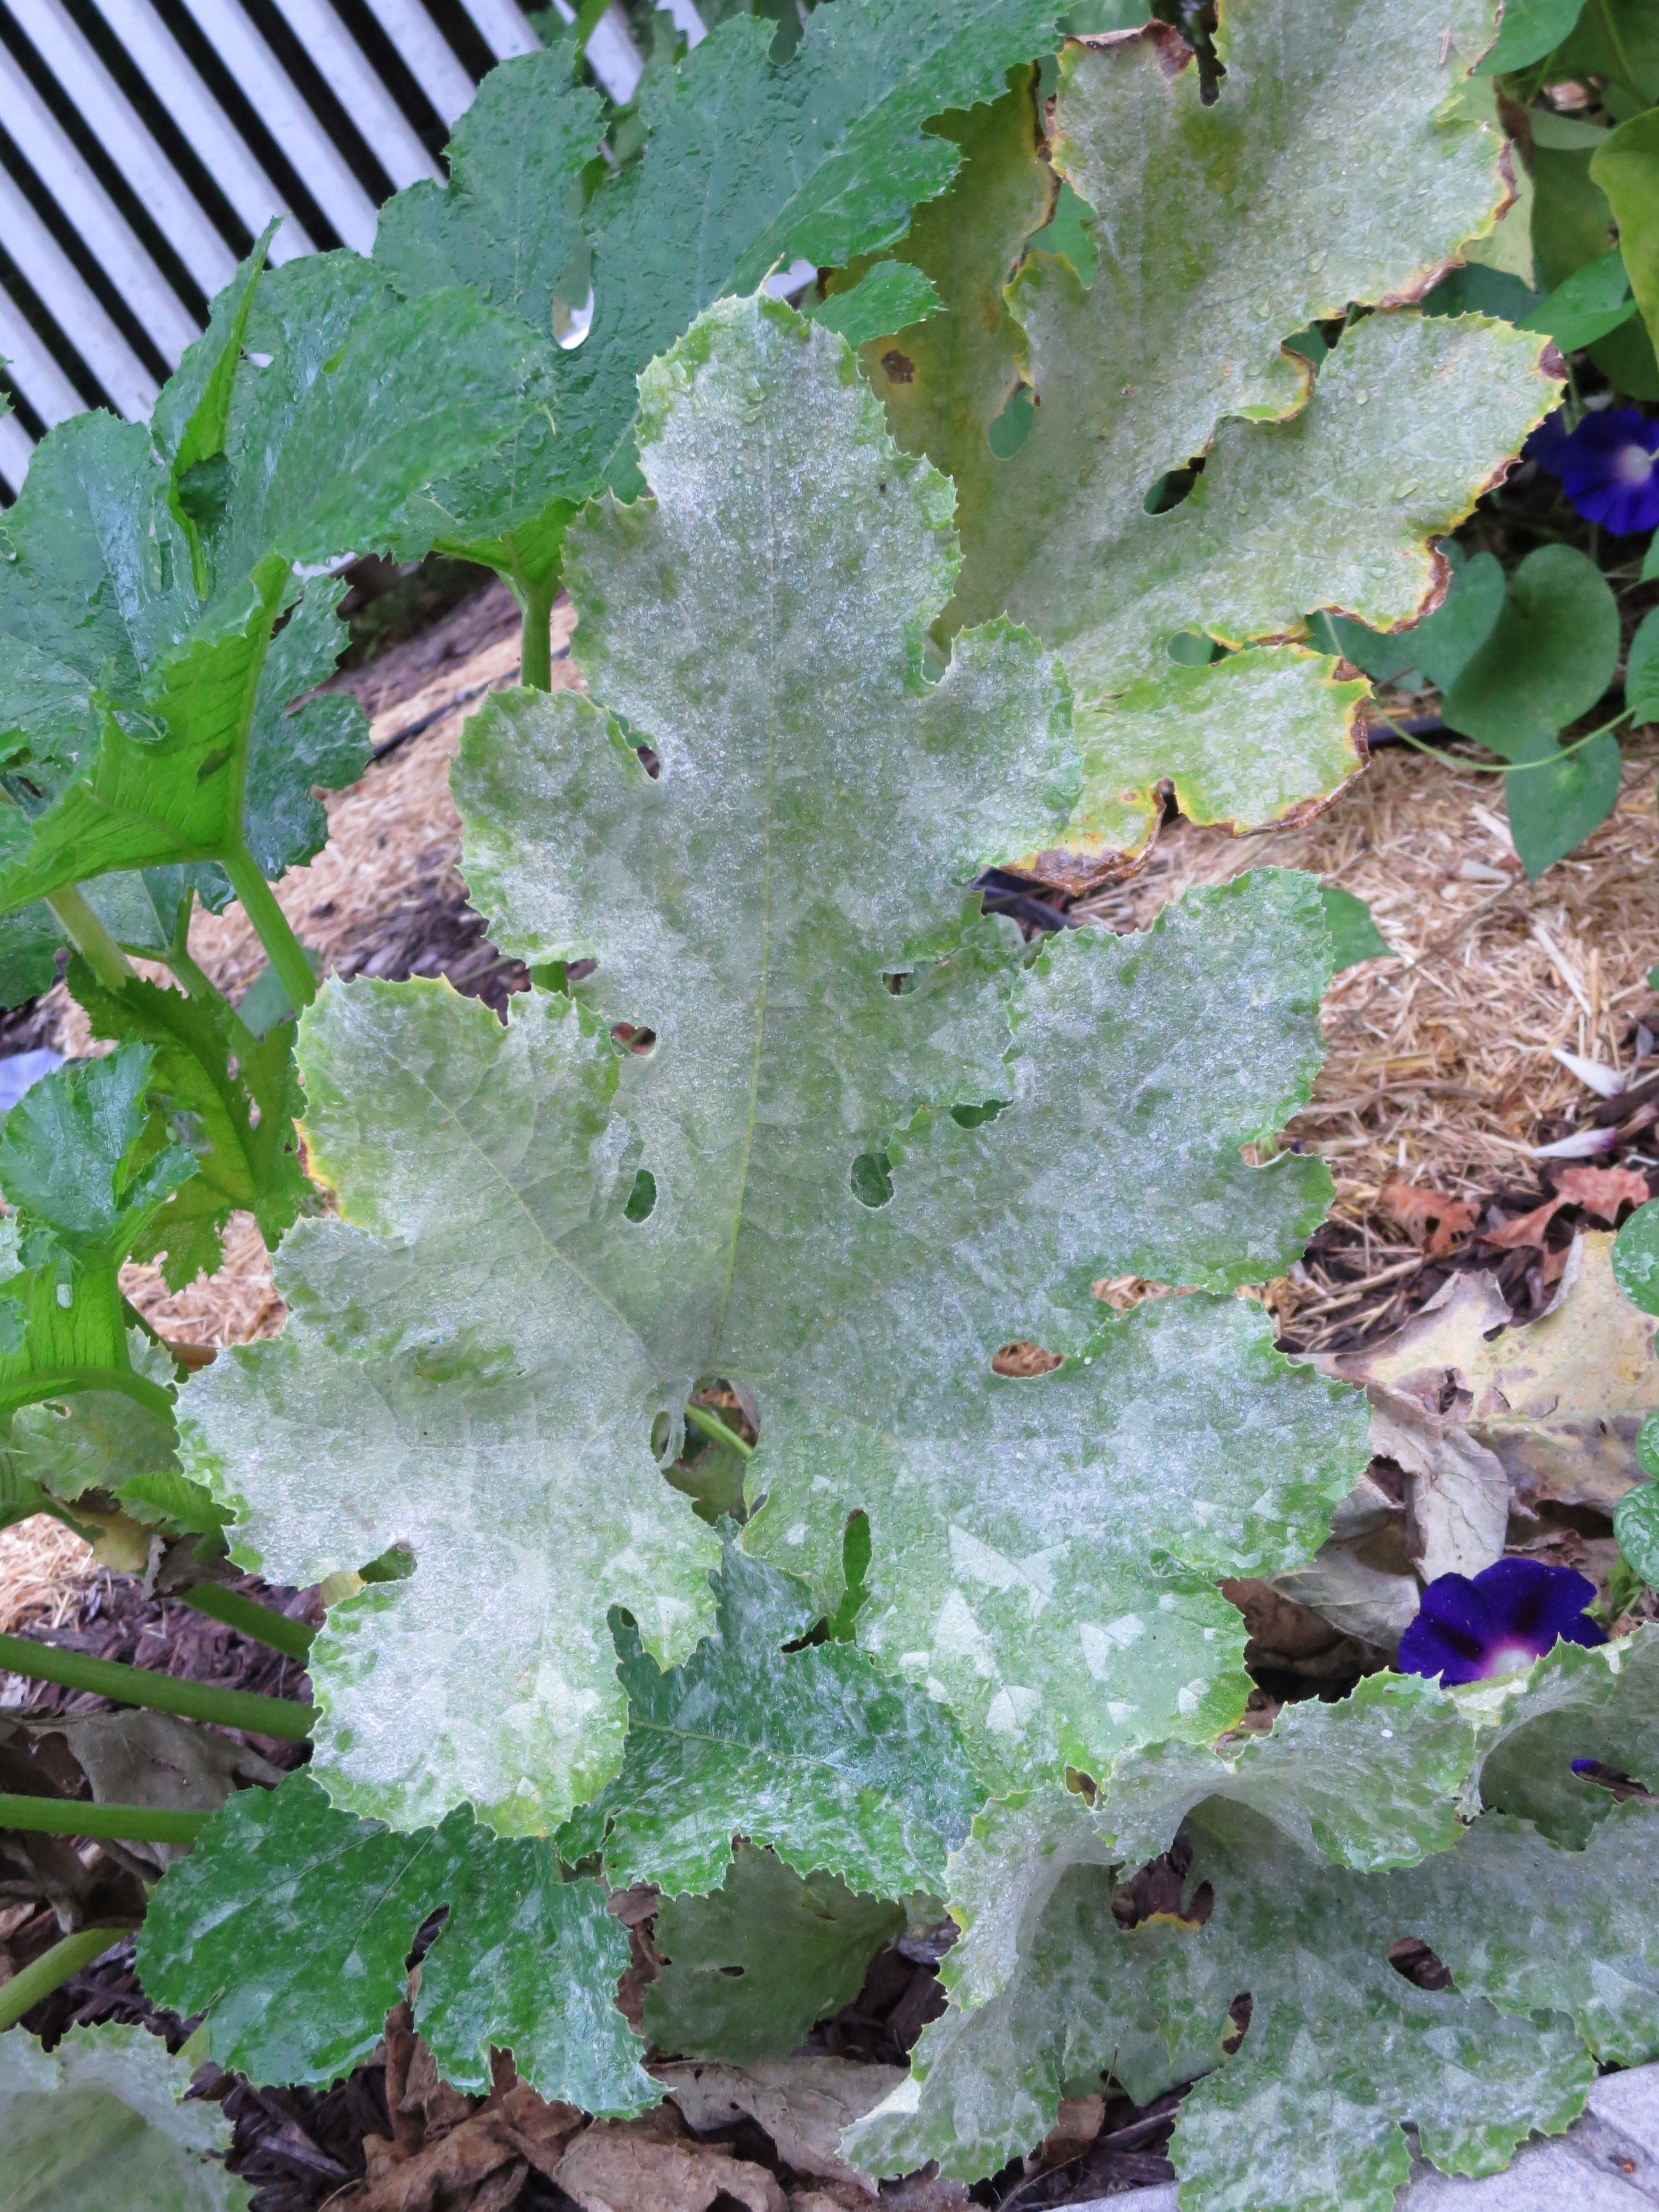Squash Powdery mildew leaf: (136, 317, 1331, 1827), (962, 0, 1582, 853), (908, 1670, 1659, 2177)
